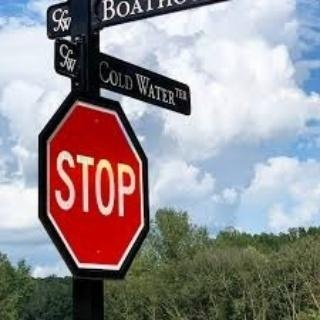sign_stop: (35, 96, 149, 272)
